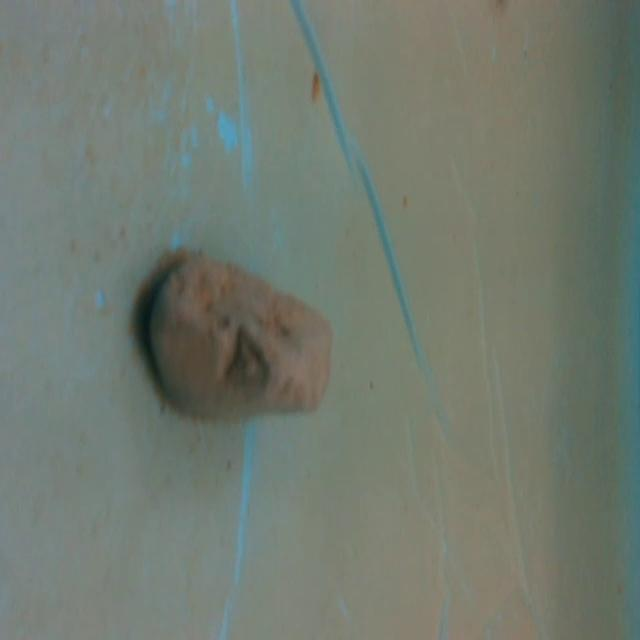rock: (141, 244, 340, 426)
